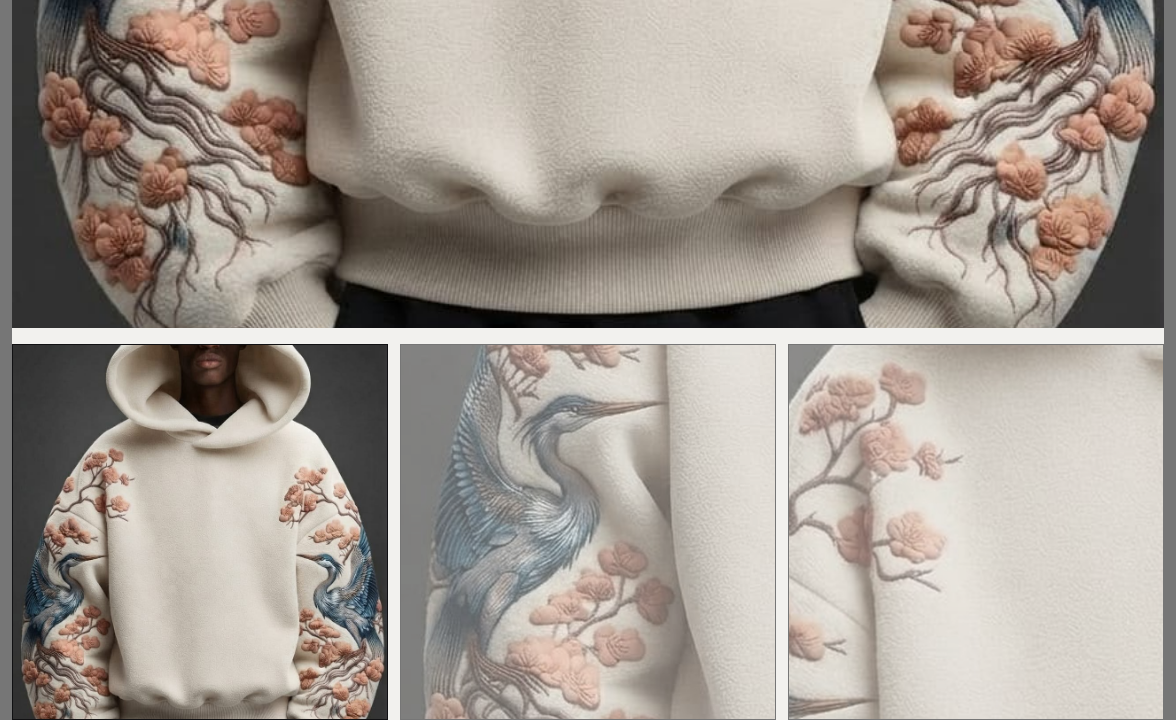
Test case: selecting a thumbnail › moves the pressed state to the chosen thumbnail
This screenshot has width=1176, height=720.
(page scrolled)
Click the button named "Blossom detail" at (976, 532), box [788,344,1164,719]
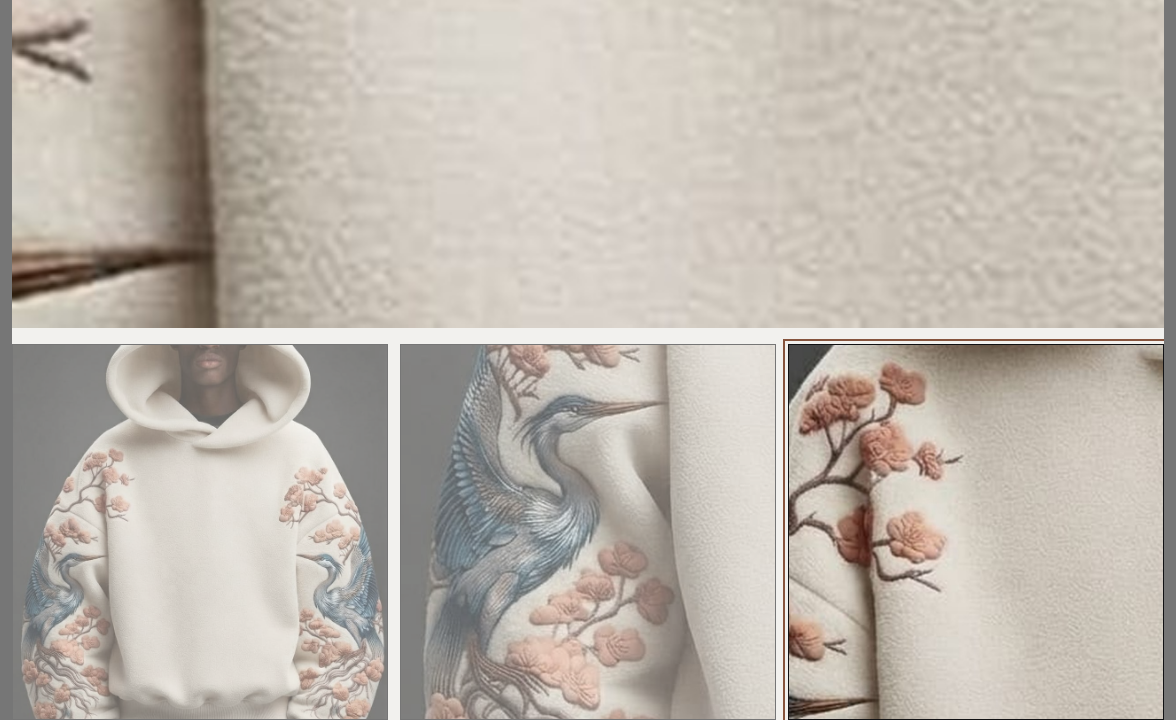
Result: the button named "Blossom detail" is pressed at [788,344,1164,719]
Result: the button named "The hoodie, front" is not pressed at [12,344,388,719]
